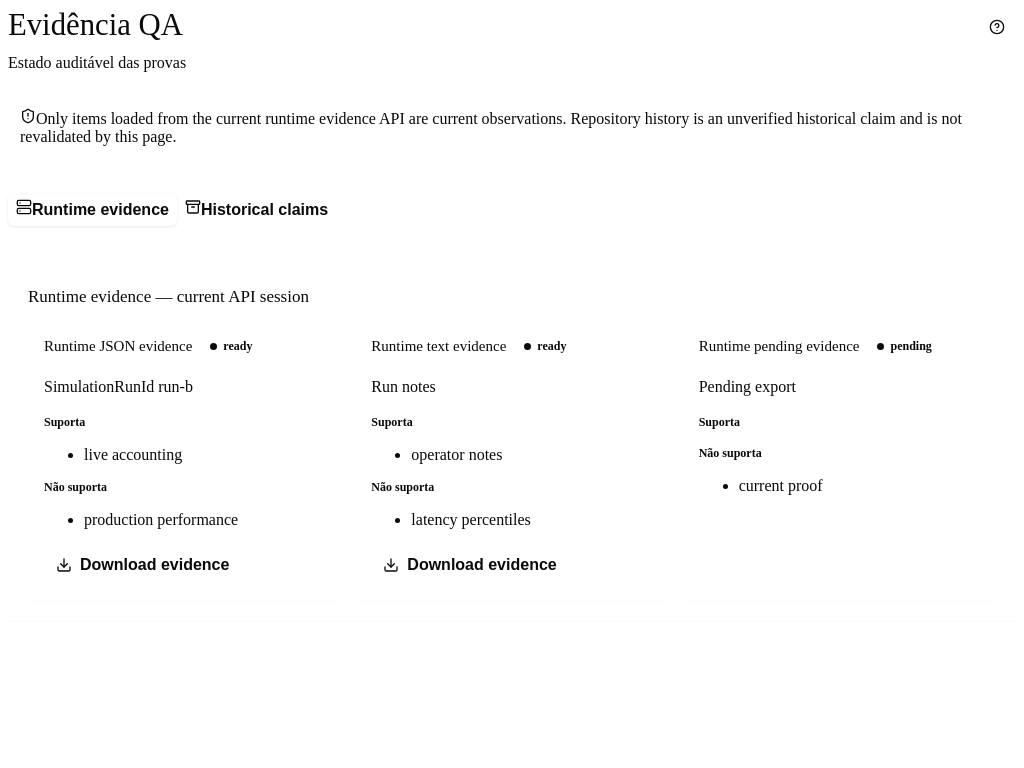
Scenario: QualityEvidencePage › reports download failures without enabling historical downloads
The width and height of the screenshot is (1024, 768).
Click the button "Download evidence" below "production performance": (143, 565) [44,545,241,585]
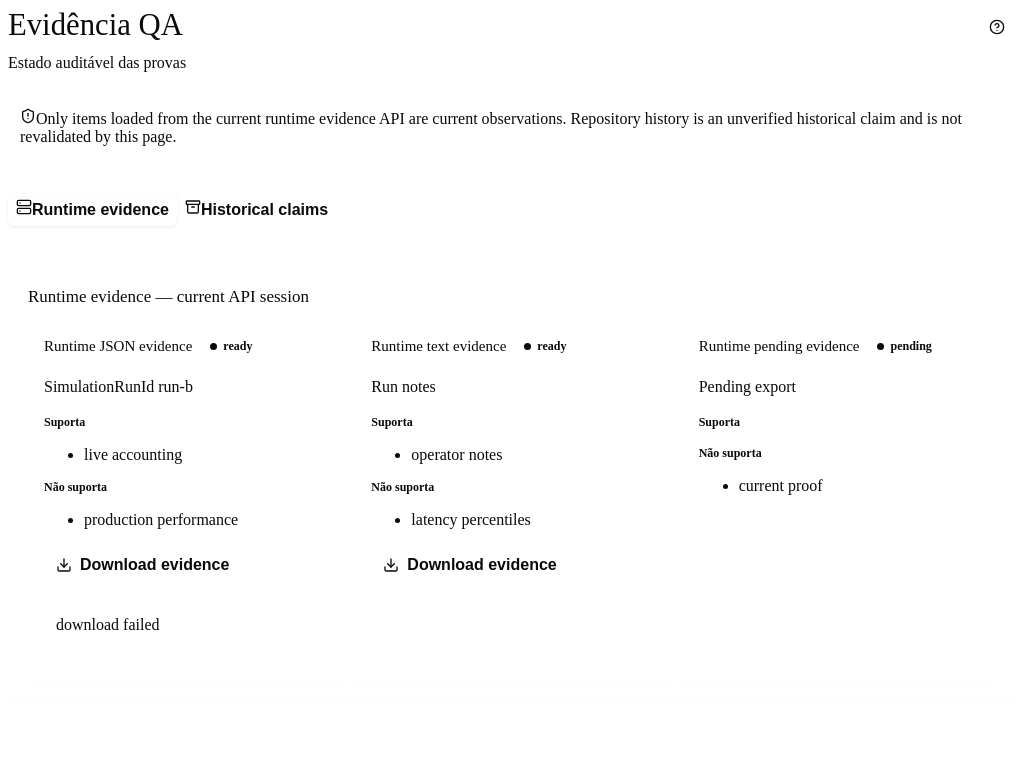
Result: the text "download failed" is shown at [56,616,160,633]
